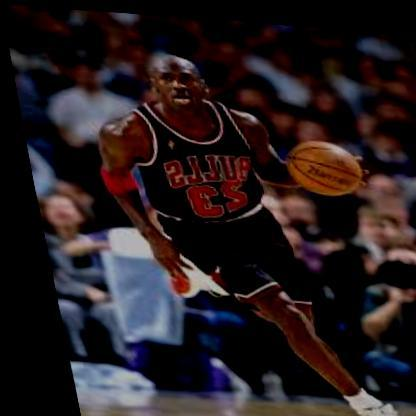basketball: (277, 131, 359, 194)
